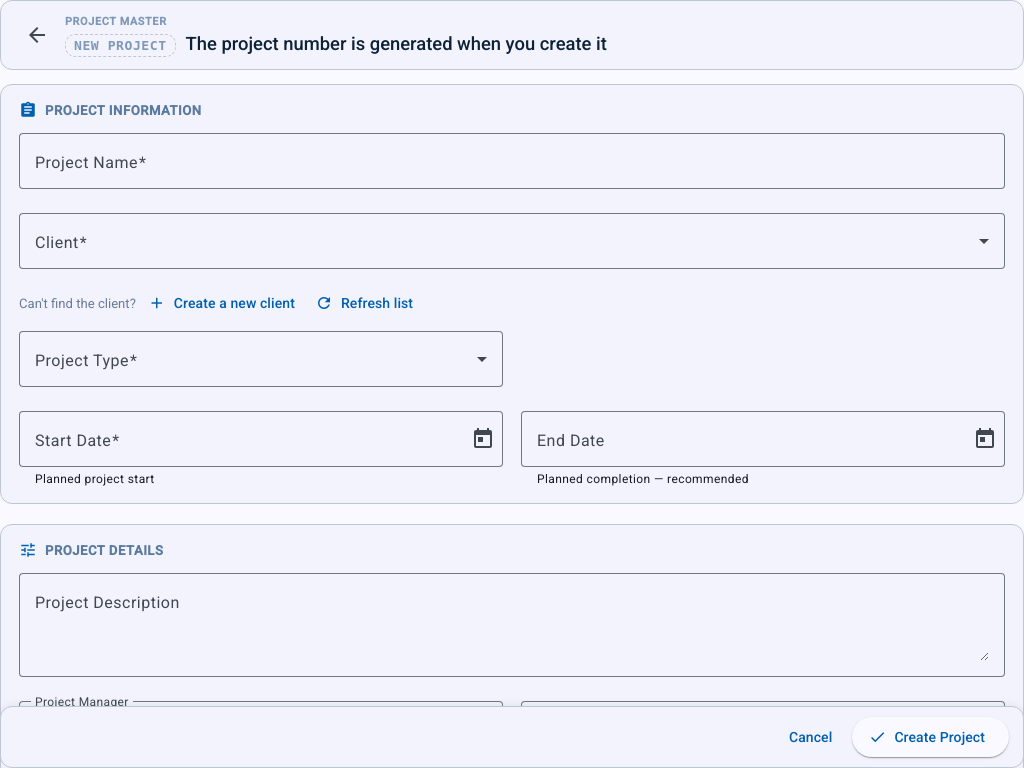
Scenario: ProjectWorkspaceComponent — creating a project › calendar › opens the calendar when the box itself is clicked
Click the field named "Start date": (247, 440) [35,428,459,452]
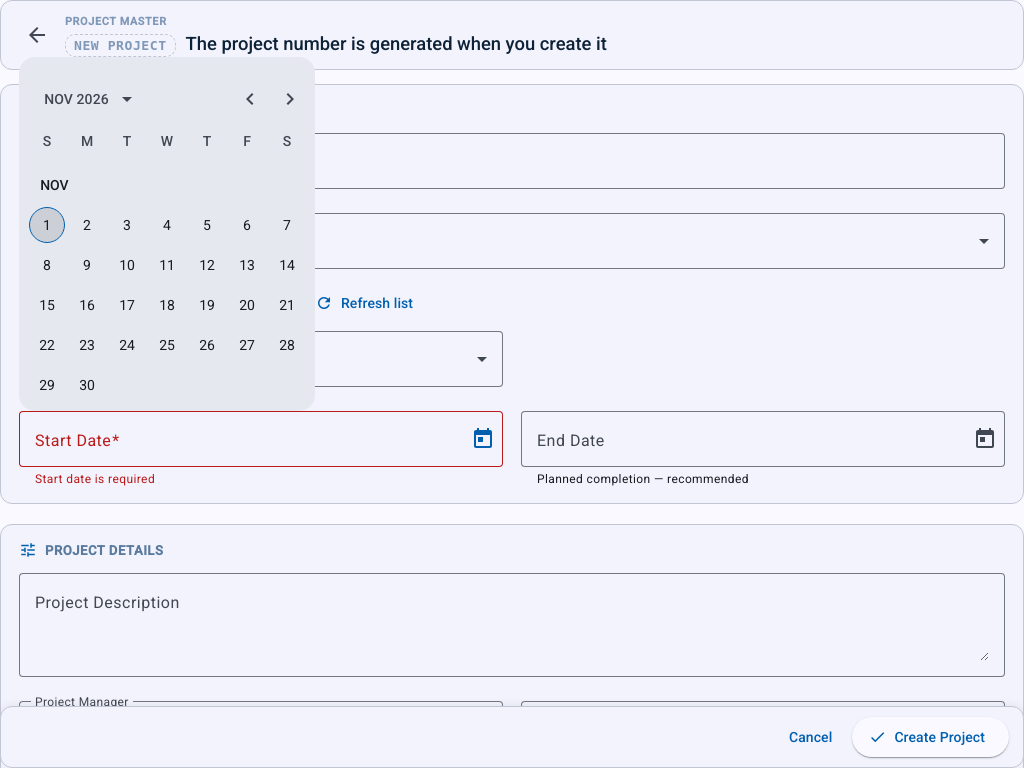
Check: the element that starts with "NOV 2026" is shown, box [19,58,315,412]
